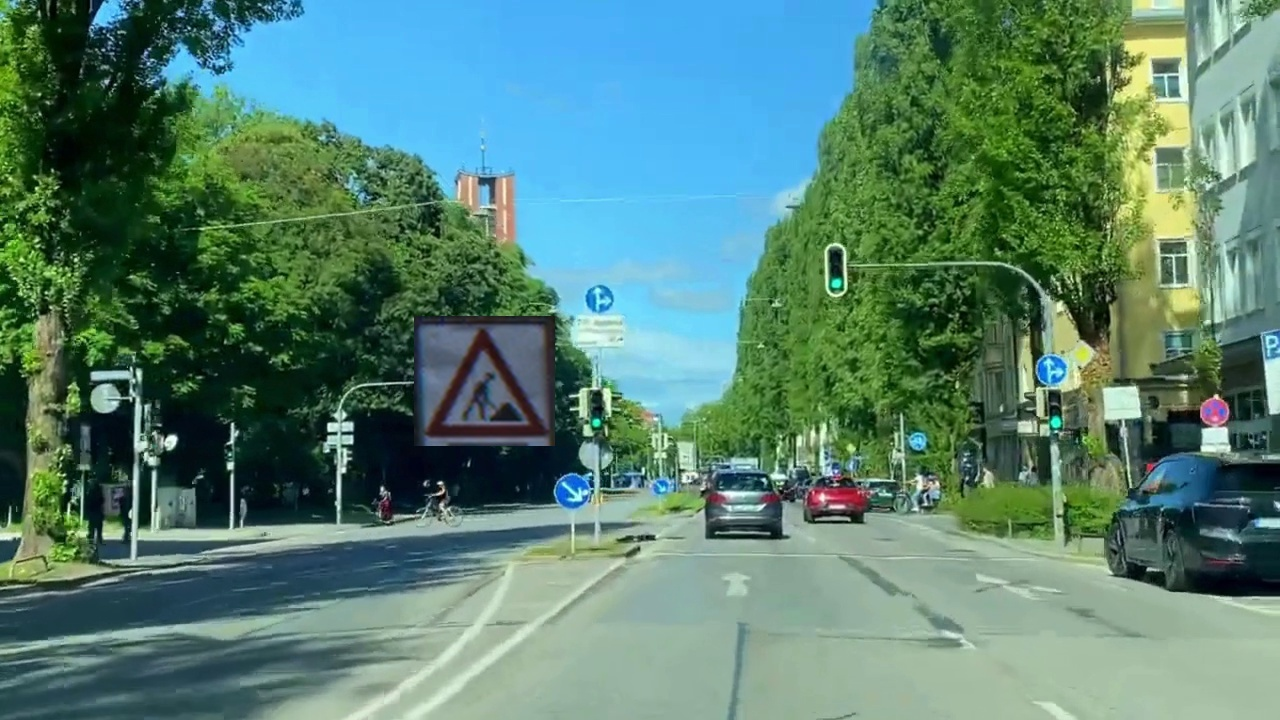Road work: (414, 316, 555, 446)
